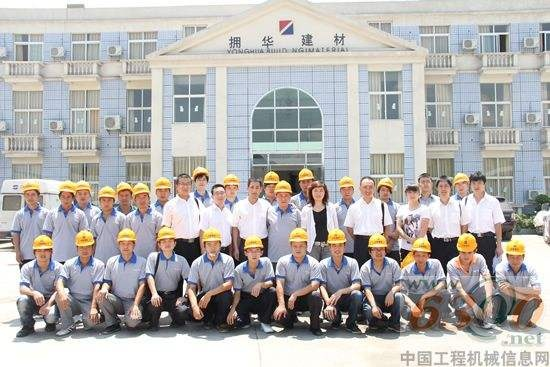none: (307, 179, 329, 204), (432, 174, 453, 200), (468, 169, 487, 197), (173, 173, 194, 198), (357, 175, 377, 200), (415, 171, 435, 196), (245, 175, 263, 199), (403, 181, 421, 205), (210, 183, 226, 206)
yellow: (71, 228, 96, 260), (287, 226, 310, 260), (454, 231, 478, 263), (503, 238, 527, 268), (199, 228, 223, 258), (365, 232, 389, 261), (115, 226, 137, 257), (325, 229, 349, 257), (31, 235, 53, 265), (242, 234, 263, 265), (411, 237, 432, 267), (156, 226, 177, 253), (153, 176, 173, 203), (114, 181, 133, 209), (273, 180, 292, 208), (73, 179, 91, 208), (130, 182, 150, 208), (96, 186, 115, 213), (261, 170, 279, 198), (20, 181, 40, 206), (336, 174, 355, 200), (56, 182, 74, 209), (296, 167, 314, 193), (191, 166, 209, 191), (452, 171, 470, 195), (223, 173, 239, 199), (376, 176, 393, 200)
